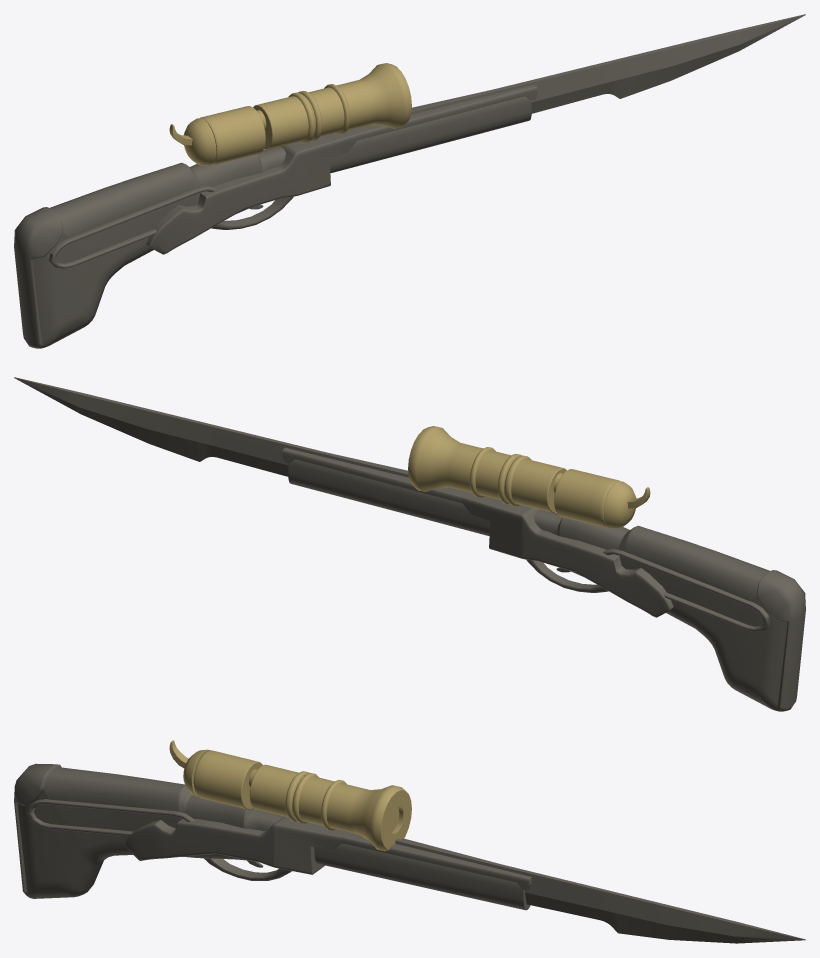
File: New Weapon Model.fbx
3 renders of one model, top to bottom at view 1: azimuth 30°, elevation 25°; view 2: azimuth 150°, elevation 25°; view 3: azimuth 330°, elevation 25°, orthographic.
Visible parts, largest first — view 1: Handle_low, Frame_low, Blade_low, Barrel1_low, Cylinder_low, Engraving_low, Grip_low; view 2: Handle_low, Frame_low, Blade_low, Barrel1_low, Cylinder_low, Engraving_low, Grip_low; view 3: Handle_low, Frame_low, Blade_low, Barrel1_low, Cylinder_low, Engraving_low, Grip_low.
Part boxes in pixels (x1,y1,x2,y2): Handle_low: (14,96,531,348); Frame_low: (146,84,537,254); Blade_low: (332,14,805,133); Barrel1_low: (253,63,411,149); Cylinder_low: (184,106,265,165); Engraving_low: (48,186,216,268); Grip_low: (211,196,293,229); Handle_low: (288,459,805,711); Frame_low: (282,447,673,617); Blade_low: (14,377,487,496); Barrel1_low: (408,426,566,512); Cylinder_low: (554,469,635,528); Engraving_low: (603,549,771,631); Grip_low: (526,559,608,592); Handle_low: (14,763,530,910); Frame_low: (125,816,531,890); Blade_low: (341,830,805,943); Barrel1_low: (249,764,411,851); Cylinder_low: (183,749,262,809); Engraving_low: (27,799,194,836); Grip_low: (204,858,291,880).
Size of the model in its own units: 115 by 27.15 by 8.45.
